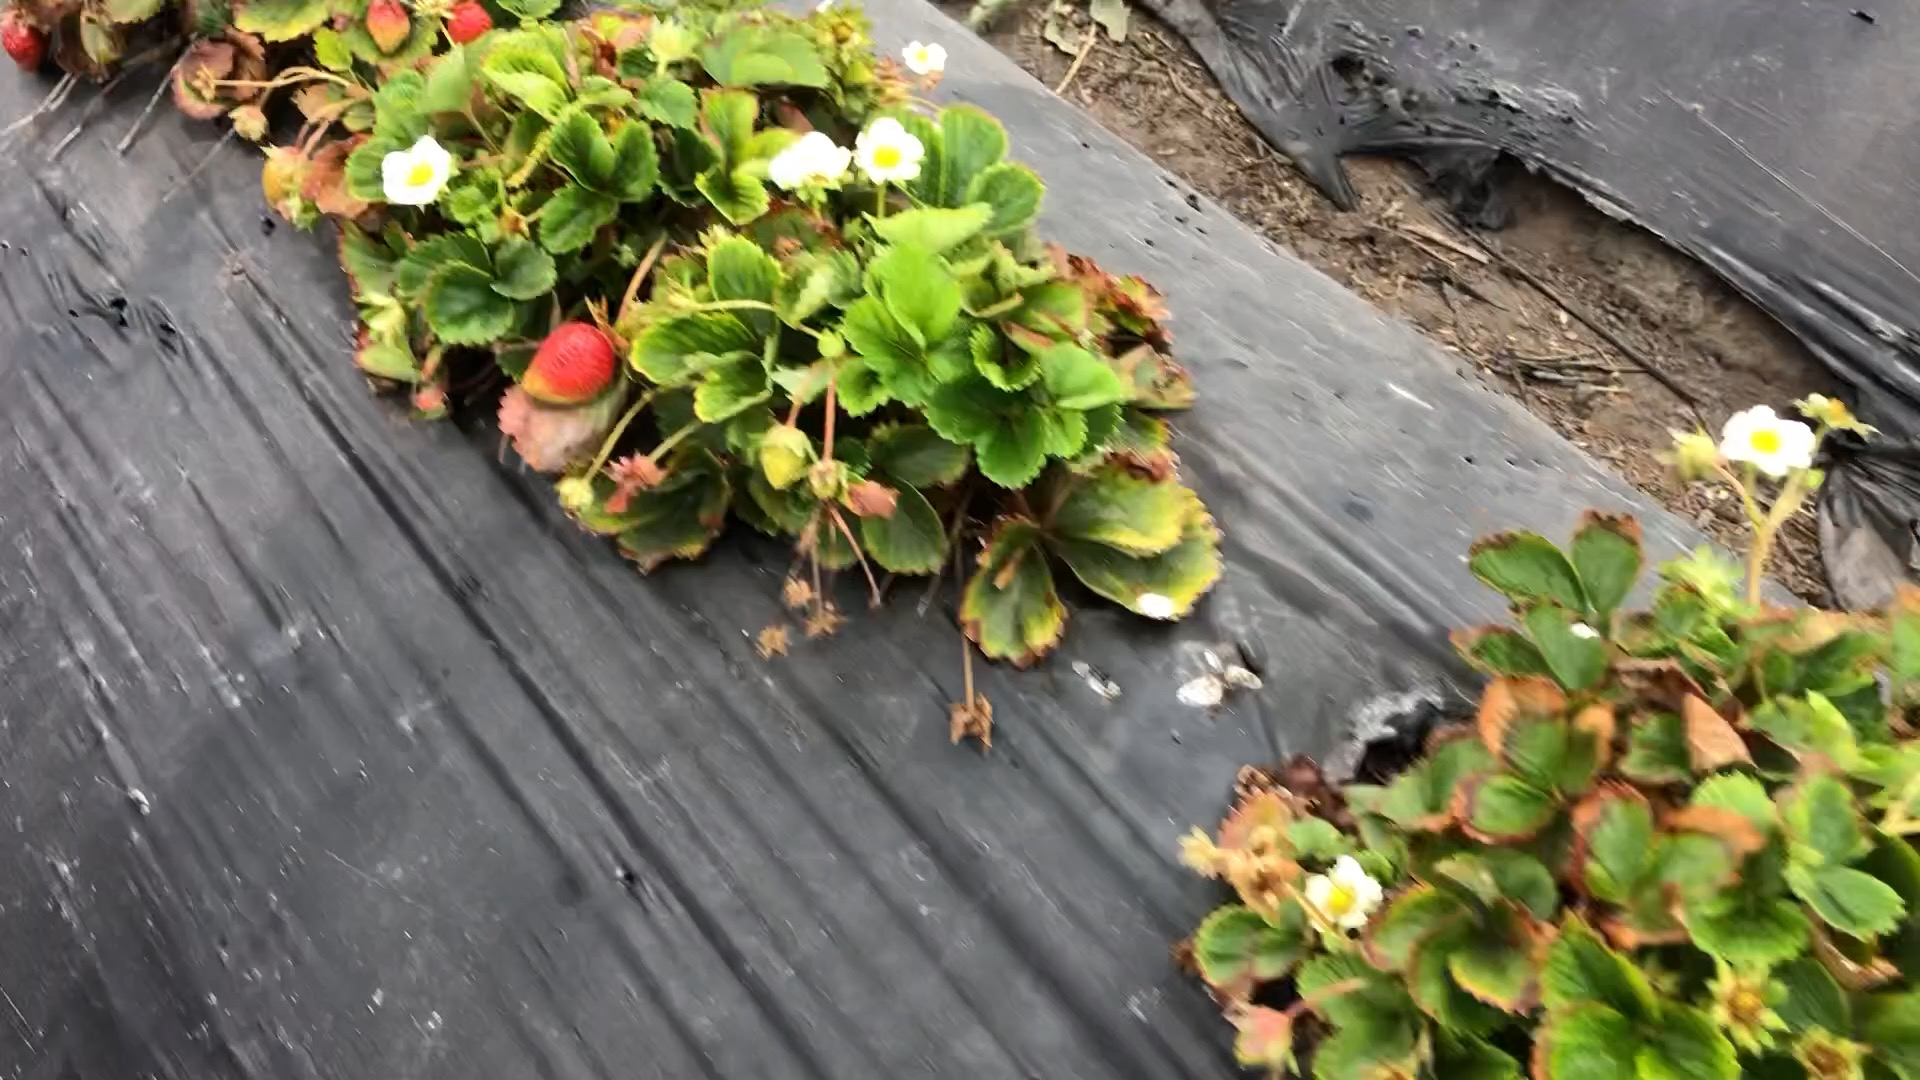ripe_strawberry: (518, 315, 625, 414), (1, 7, 55, 76), (444, 1, 501, 46)
unripe_strawberry: (262, 137, 309, 208), (364, 1, 418, 55)
